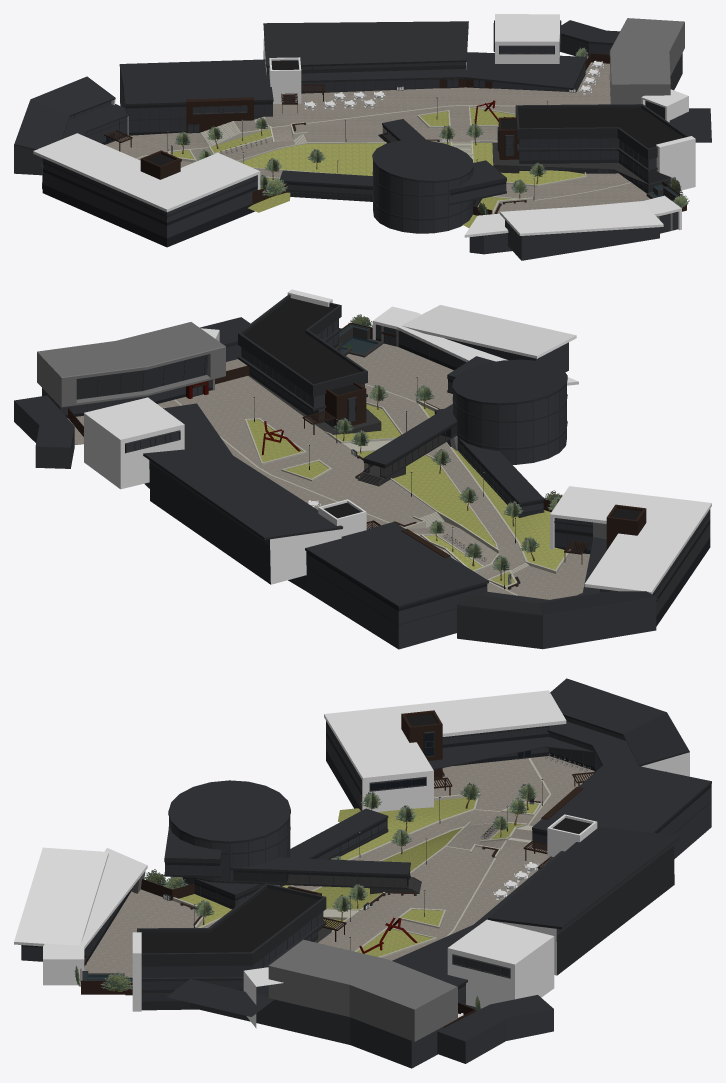
Rendered from campus.glb.
3 views of the same model, one above another, from view 1: azimuth 30°, elevation 25°; view 2: azimuth 150°, elevation 25°; view 3: azimuth 270°, elevation 25° (orthographic). The views are drawn at different scales.
Parts seen in each view (by area): view 1: Plane.029, Plane.006, Plane.007, Cylinder, Cube.071, Cube.003, Plane.014, Cube.091, Cube.074, Cube.020, Plane.001, Plane.027 (+27 smaller); view 2: Plane.029, Cylinder, Plane.006, Cube.074, Plane.014, Cube.091, Plane.007, Cube, Cube.020, Cube.003, Cube.004, Plane.027 (+22 smaller); view 3: Plane.029, Cube.091, Plane.014, Plane.006, Plane.007, Cylinder, Cube.003, Cube.004, Plane.027, Cube.074, Cube, Cube.093 (+23 smaller).
Part boxes in pixels (bbox=[...]): Plane.029: bbox=[105, 56, 649, 213]; Plane.006: bbox=[119, 52, 586, 105]; Plane.007: bbox=[263, 21, 468, 67]; Cylinder: bbox=[372, 139, 473, 233]; Cube.071: bbox=[42, 158, 257, 247]; Cube.003: bbox=[518, 108, 683, 193]; Plane.014: bbox=[33, 133, 260, 212]; Cube.091: bbox=[609, 18, 684, 104]; Cube.074: bbox=[14, 76, 115, 175]; Cube.020: bbox=[120, 62, 585, 135]; Plane.001: bbox=[241, 143, 584, 184]; Plane.027: bbox=[500, 202, 663, 235]; Plane.029: bbox=[67, 343, 589, 599]; Cylinder: bbox=[452, 359, 567, 464]; Plane.006: bbox=[163, 403, 488, 608]; Cube.074: bbox=[456, 590, 656, 649]; Plane.014: bbox=[550, 486, 711, 593]; Cube.091: bbox=[37, 322, 225, 407]; Plane.007: bbox=[143, 446, 342, 539]; Cube: bbox=[149, 460, 341, 584]; Cube.020: bbox=[144, 482, 487, 649]; Cube.003: bbox=[241, 298, 364, 423]; Cube.004: bbox=[84, 397, 184, 489]; Plane.027: bbox=[401, 305, 576, 358]; Plane.029: bbox=[79, 756, 594, 1013]; Cube.091: bbox=[268, 939, 457, 1041]; Plane.014: bbox=[324, 690, 566, 811]; Plane.006: bbox=[392, 759, 711, 987]; Plane.007: bbox=[488, 826, 680, 929]; Cylinder: bbox=[168, 780, 290, 893]; Cube.003: bbox=[141, 888, 322, 1010]; Cube.004: bbox=[447, 919, 554, 1008]; Plane.027: bbox=[14, 847, 108, 946]; Cube.074: bbox=[550, 678, 689, 776]; Cube: bbox=[494, 843, 674, 975]; Cube.093: bbox=[437, 995, 553, 1063].
Bounding box in the file's own units: 26.65 × 3.21 × 22.06.
Materials: 36 (7 with a texture image).
